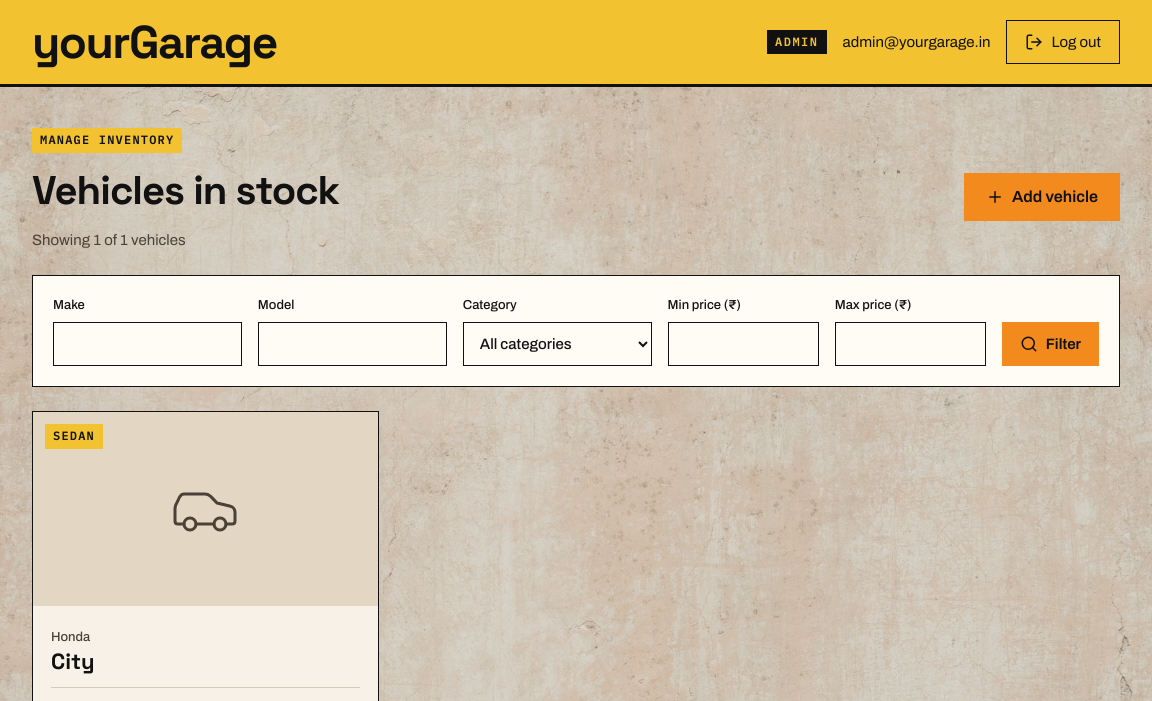
Scenario: DashboardPage — add vehicle (admin) › keeps the dialog open and shows the server’s message when saving fails
This screenshot has width=1152, height=701.
Expected: the text "Showing 1 of 1 vehicles" is shown, [32, 232, 186, 248]
Click the button "Add vehicle": (1042, 197) [964, 173, 1120, 221]
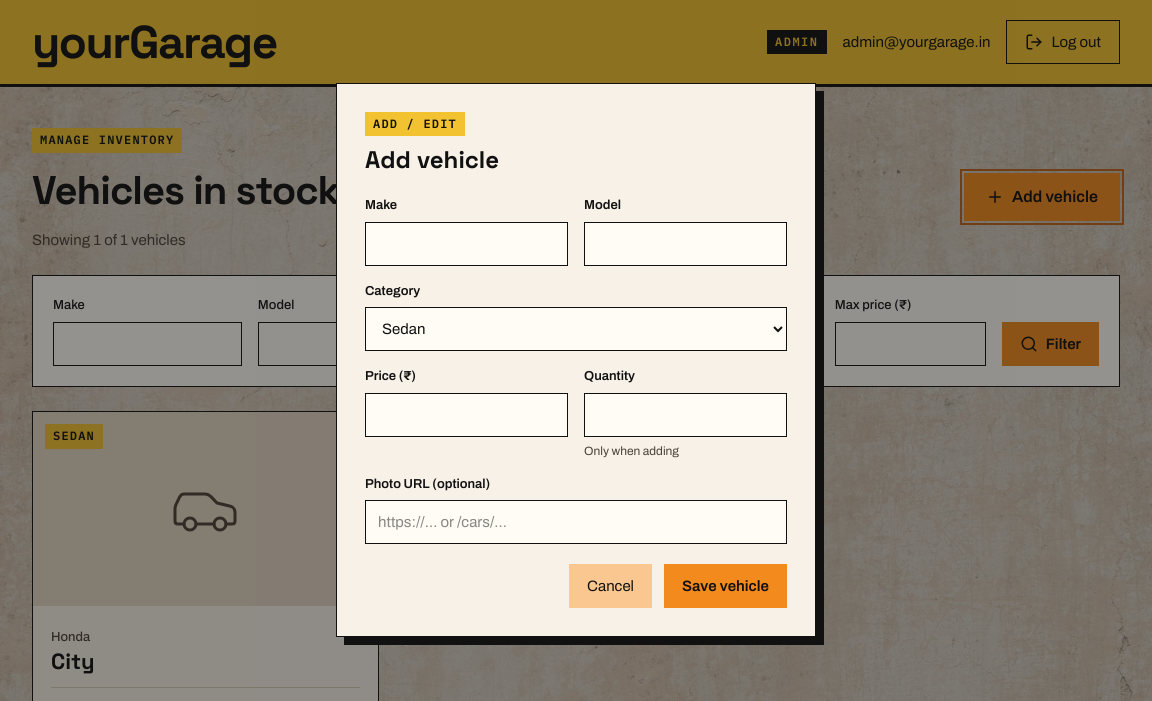
In the field labelled "Make": (466, 244) [365, 222, 568, 266], type "Tata"
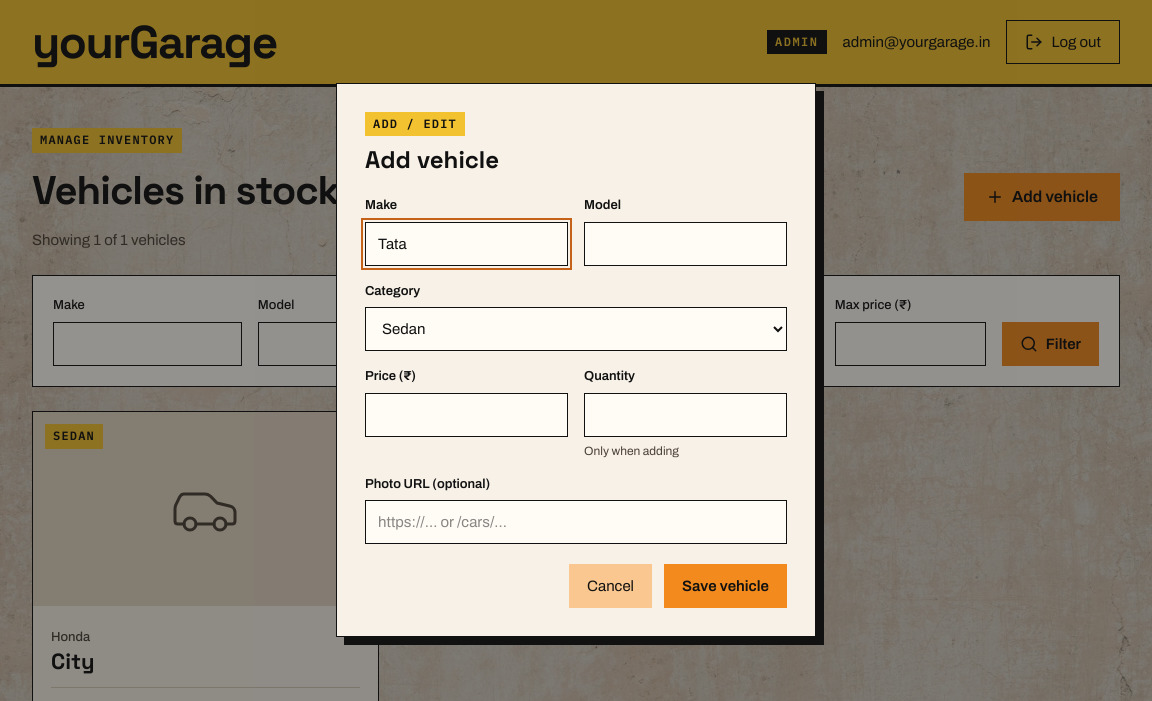
In the field labelled "Model": (686, 244) [584, 222, 787, 266], type "Nexon"
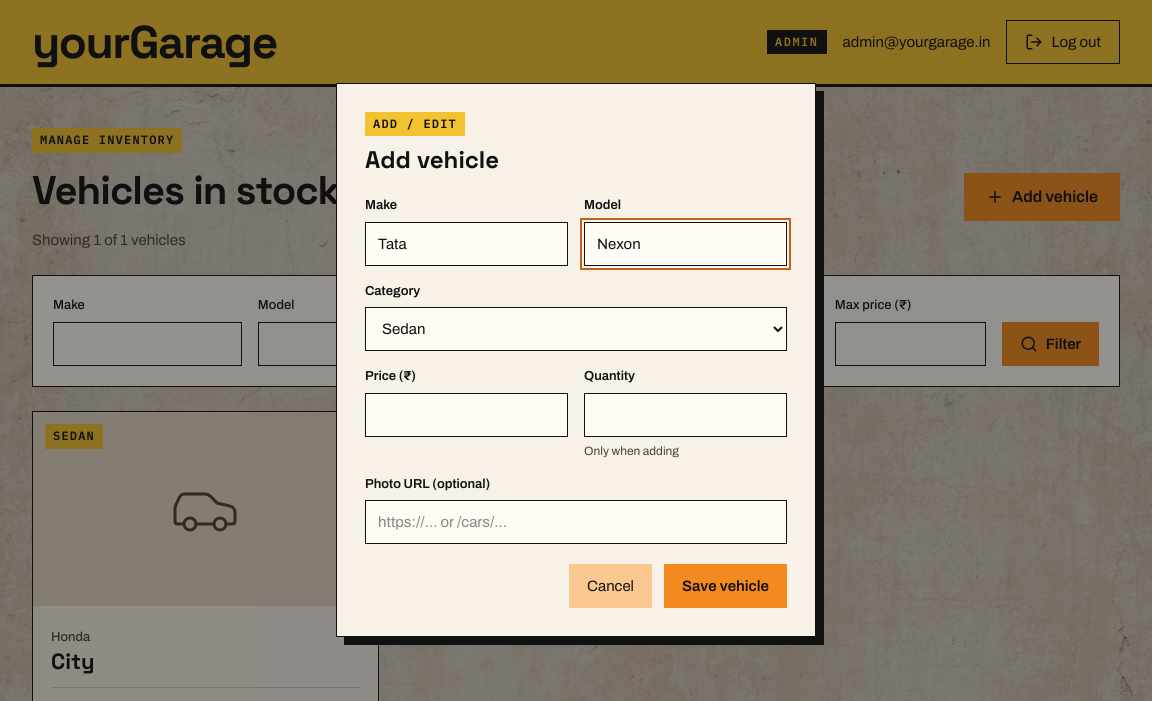
In the field labelled "Price (₹)": (466, 415) [365, 393, 568, 437], type "900000"
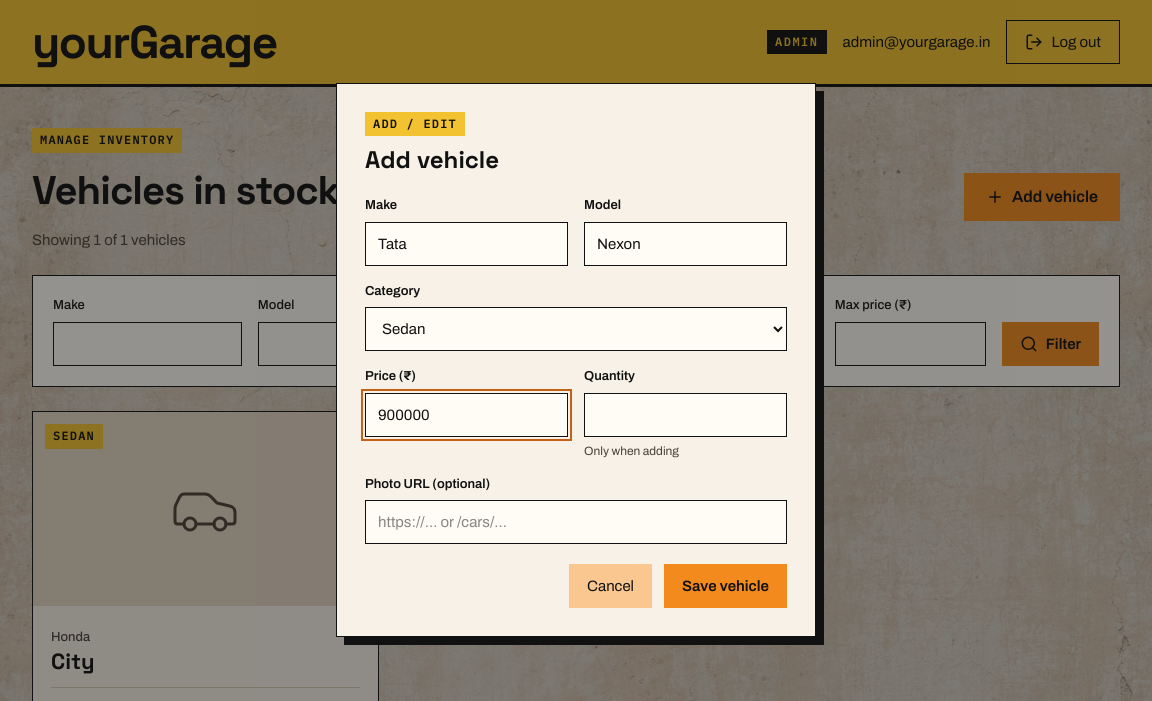
In the field labelled "Quantity": (686, 415) [584, 393, 787, 437], type "4"
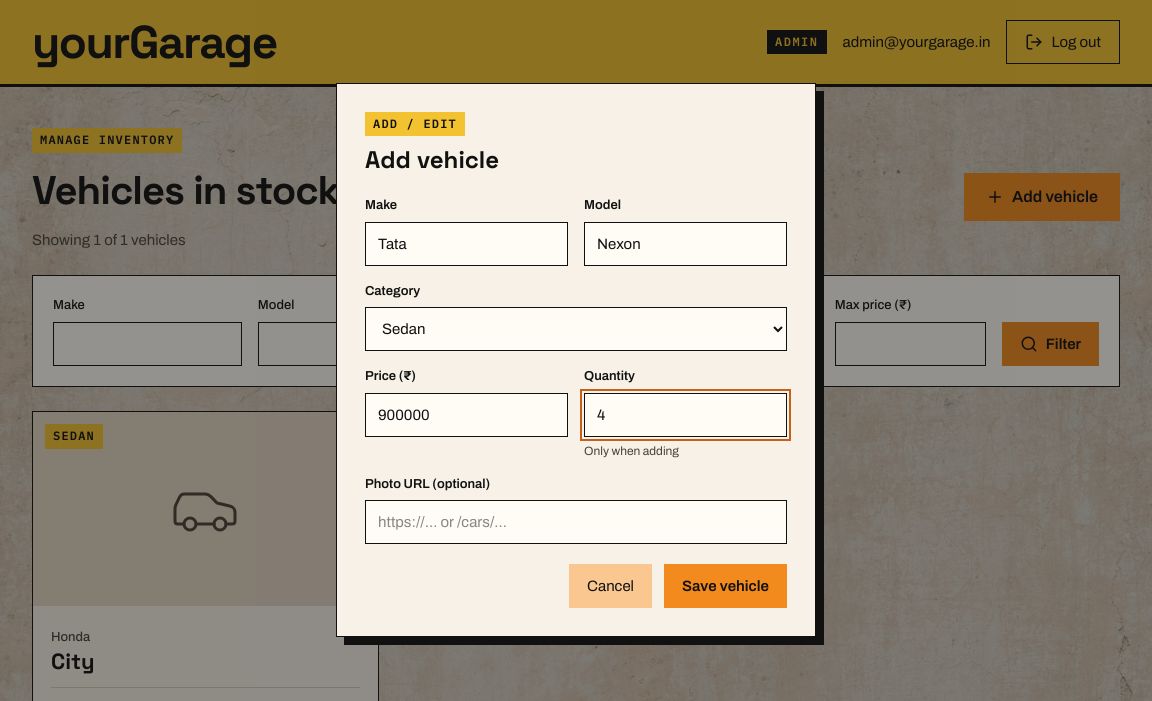
Click the button "Save vehicle": (726, 586) [664, 564, 787, 608]
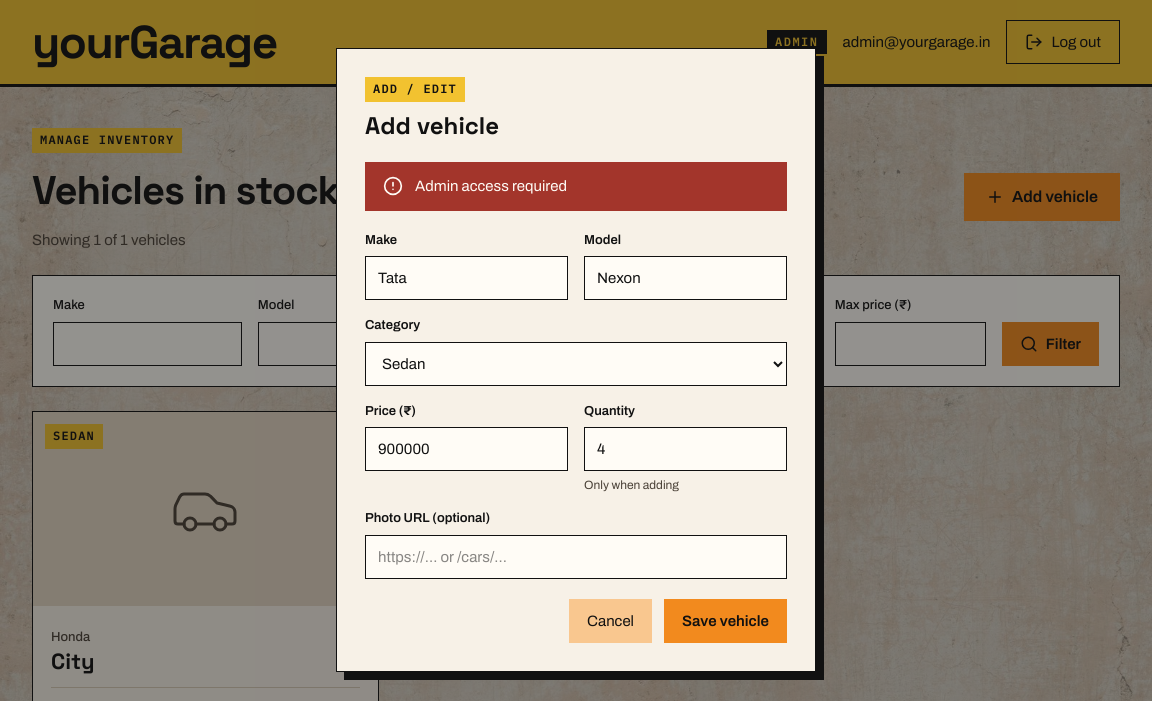
Expected: the dialog "Add vehicle" is shown, [336, 48, 816, 672]
Expected: the message reads "Admin access required", [415, 178, 567, 194]
